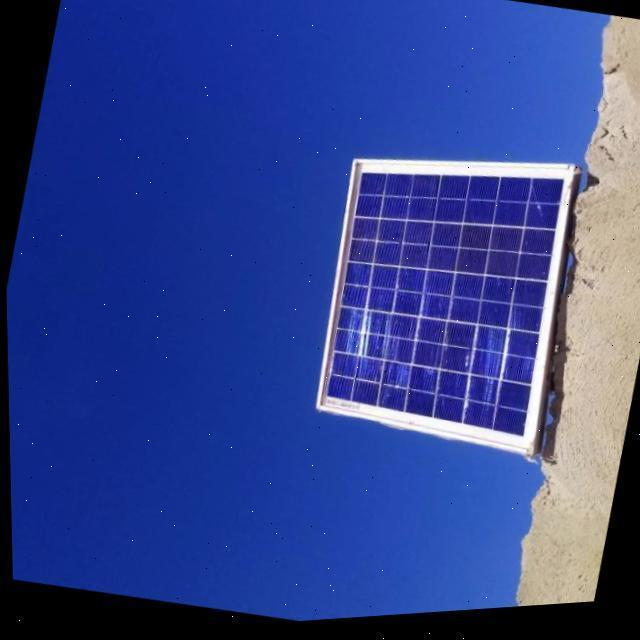Normal Solar Panel: (299, 129, 586, 471)
